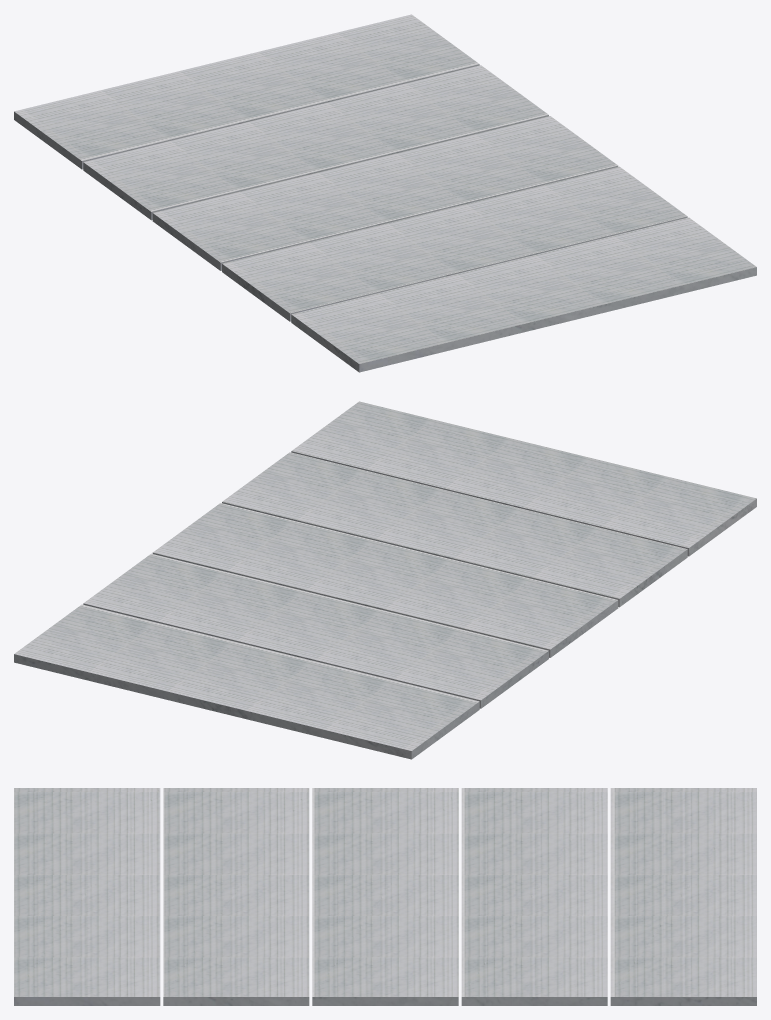
Rendered from tray.dae.
The picture shows the model from 3 angles, top to bottom: view 1: azimuth 30°, elevation 25°; view 2: azimuth 150°, elevation 25°; view 3: azimuth 270°, elevation 25°; orthographic projection. The views are drawn at different scales.
Parts seen in each view (by area): view 1: Component_10 (×10); view 2: Component_10 (×10); view 3: Component_10 (×10).
Boxes of the visible parts, bbox=[...] form: Component_10 (×10): bbox=[14, 14, 756, 372]; Component_10 (×10): bbox=[14, 401, 756, 759]; Component_10 (×10): bbox=[14, 788, 756, 1005].
Bounding box in the file's own units: 38.86 × 58.43 × 0.7874.
